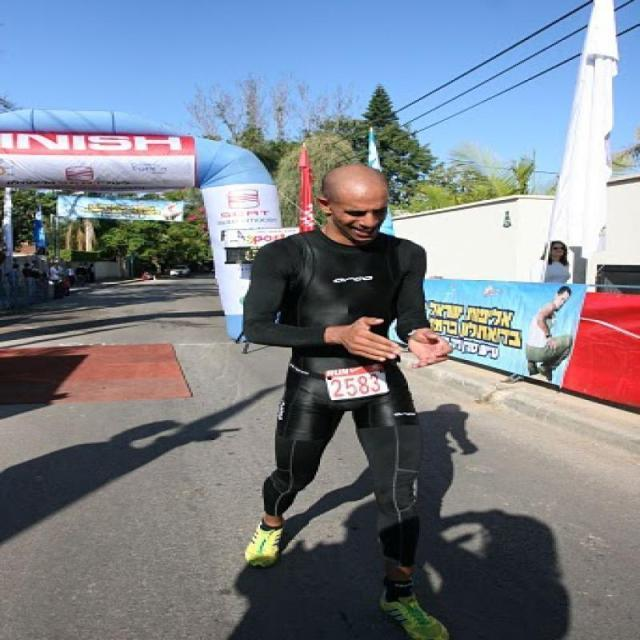dorsal: (320, 364, 394, 402)
